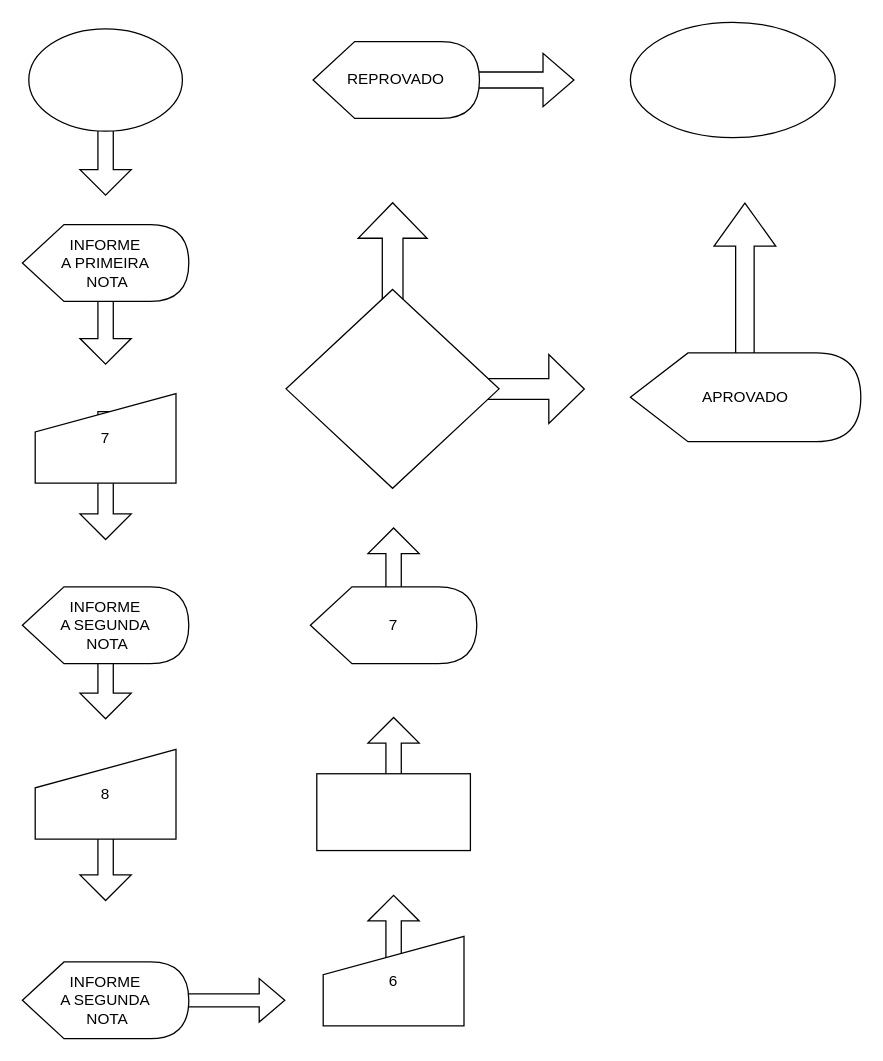
This 883x1061 diagram has some shape labels left out. Each missing label, with the box of its shape:
A MÉDIA É MAIOR OU IGUAL A 7?: (285, 288, 499, 488)
FIM: (629, 21, 835, 138)
INICIO: (28, 28, 182, 131)
MÉDIA = (7+8+6)/3: (316, 772, 470, 851)
